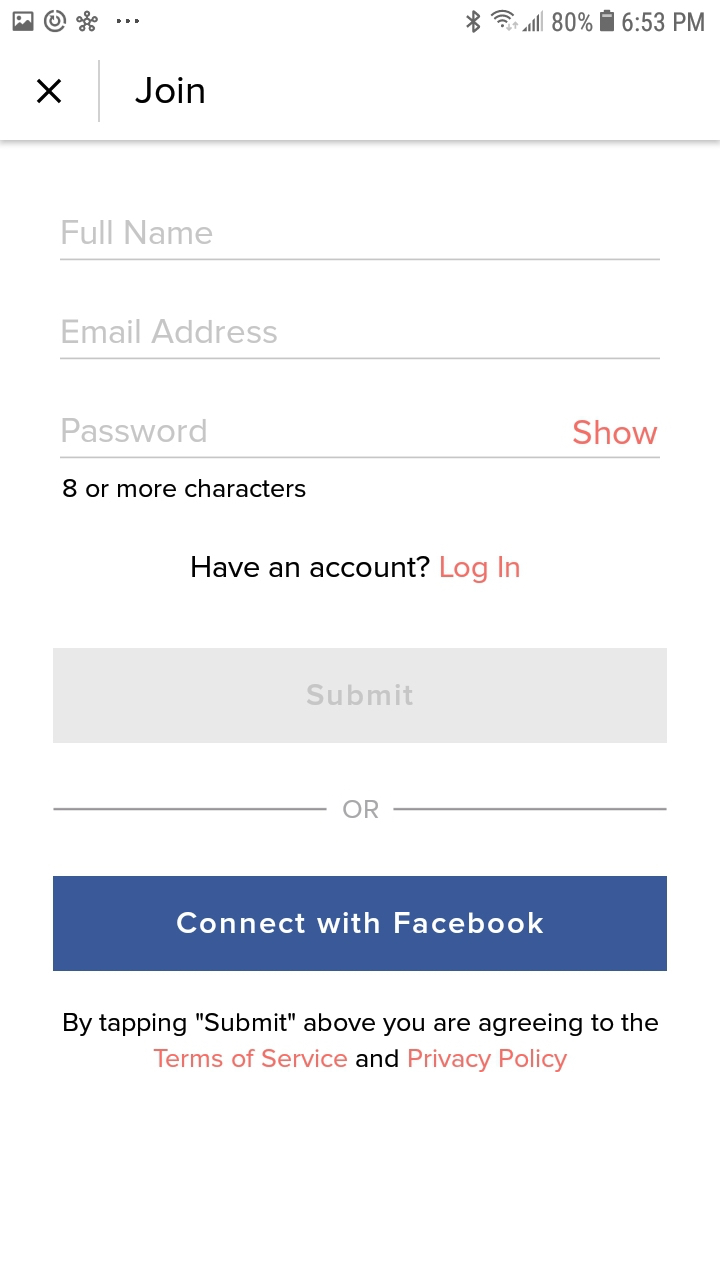EditText: (60, 219, 661, 262), (60, 319, 661, 361), (60, 417, 661, 459)
Icon: (37, 79, 63, 105)
Text: (64, 1012, 659, 1073), (192, 555, 520, 584), (63, 319, 278, 345), (63, 479, 306, 499), (63, 220, 213, 246), (63, 418, 208, 444), (574, 421, 658, 445), (136, 77, 206, 105), (343, 799, 380, 819)
TextButton: (54, 876, 668, 972), (53, 648, 667, 744)
UpperTaskBar: (1, 1, 720, 34)
